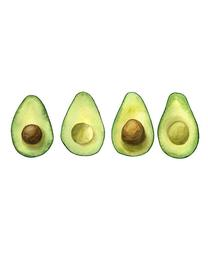avocado: (60, 92, 105, 156), (10, 94, 54, 159), (111, 92, 154, 157), (158, 92, 199, 159)
